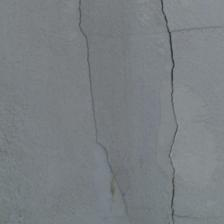Crack: (0, 0, 140, 170), (38, 12, 149, 124)
